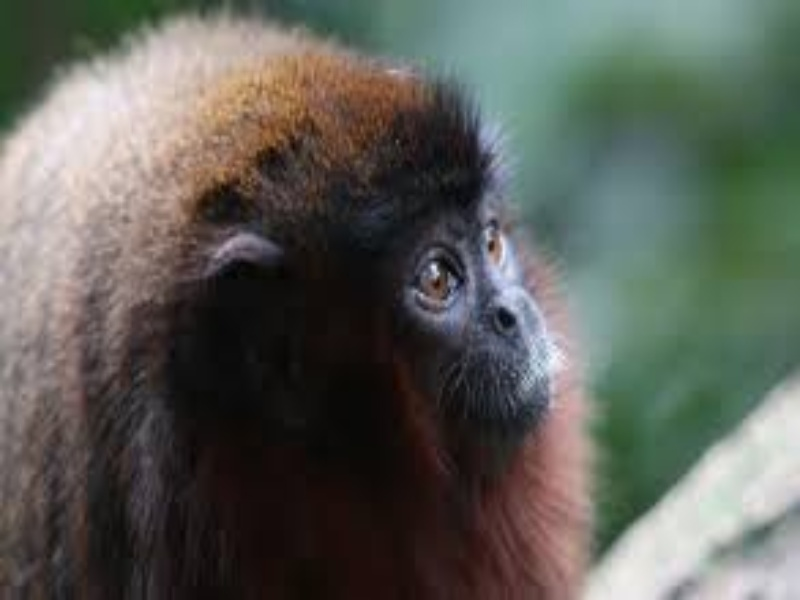monkey: (17, 41, 675, 600)
